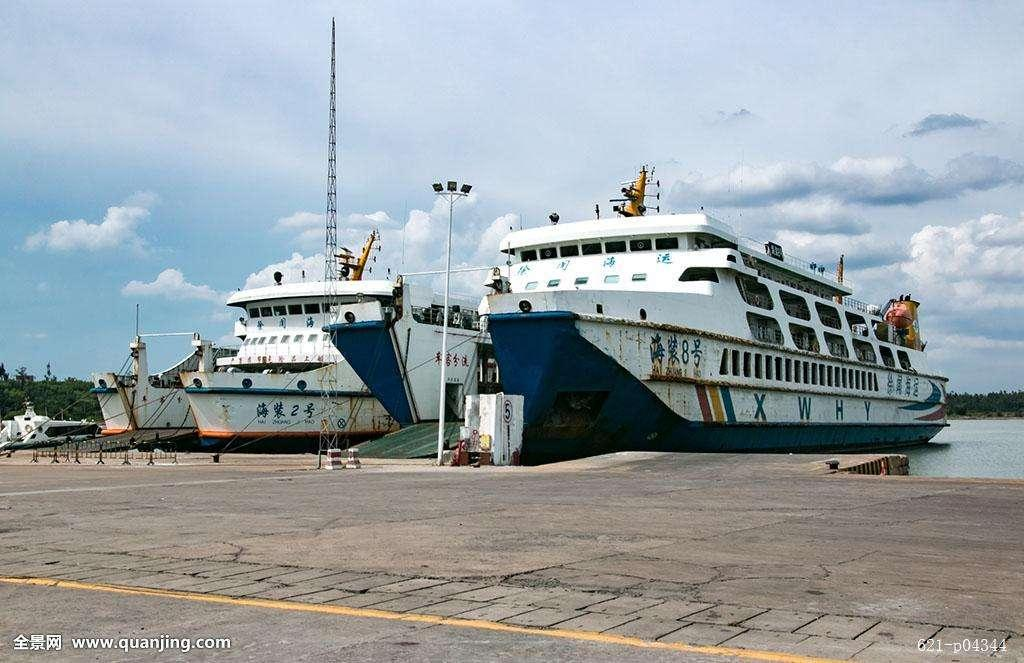youlun: (468, 165, 949, 468), (166, 247, 488, 450)
